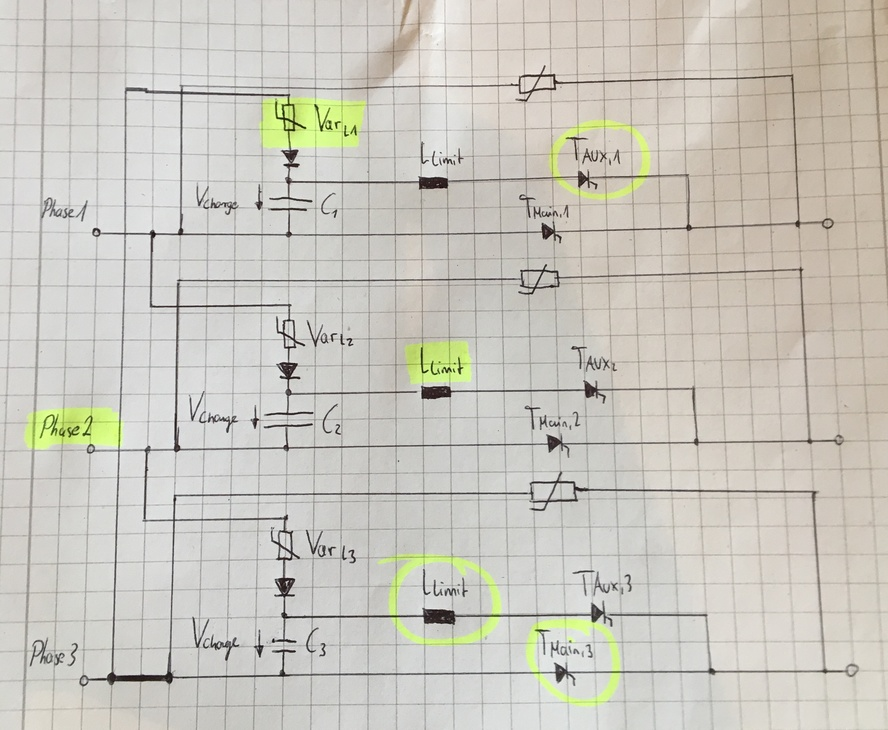capacitor.unpolarized: (261, 408, 317, 432), (266, 195, 314, 215), (268, 636, 300, 657)
crossover: (172, 300, 183, 312), (114, 445, 124, 455), (121, 230, 131, 239), (170, 516, 180, 524), (179, 90, 187, 96)
diode: (275, 361, 303, 381), (272, 575, 297, 597), (280, 148, 302, 168)
inductor: (421, 606, 457, 627), (415, 384, 453, 402), (417, 175, 450, 191)
junction: (104, 670, 119, 687), (162, 670, 177, 686), (277, 668, 289, 680), (175, 227, 187, 238), (171, 443, 183, 454), (692, 436, 702, 449), (684, 222, 695, 233), (682, 170, 693, 181), (148, 228, 158, 240), (143, 443, 153, 455), (805, 436, 816, 446), (808, 488, 819, 498), (279, 611, 290, 621), (122, 85, 133, 95), (280, 512, 290, 523), (281, 443, 292, 453), (284, 175, 294, 186), (283, 230, 295, 239), (794, 218, 803, 230), (706, 667, 718, 676), (821, 666, 831, 676), (284, 387, 294, 397), (174, 277, 185, 286), (148, 301, 157, 312), (689, 383, 698, 393), (701, 611, 711, 620), (171, 491, 180, 500), (788, 72, 798, 80), (140, 516, 149, 524), (797, 266, 805, 274), (178, 83, 187, 89), (285, 302, 293, 308), (285, 92, 292, 98)
terminal: (843, 661, 861, 679), (77, 673, 92, 688), (819, 216, 835, 230), (832, 433, 846, 447), (90, 227, 103, 239), (85, 442, 96, 456)
text: (190, 614, 240, 662), (187, 389, 240, 434), (533, 627, 595, 660), (304, 528, 358, 565), (570, 568, 634, 598), (565, 135, 623, 168), (28, 635, 79, 669), (312, 102, 359, 138), (38, 412, 95, 441), (523, 403, 582, 431), (421, 567, 469, 600), (419, 345, 465, 377), (570, 344, 619, 374), (195, 183, 239, 216), (306, 319, 355, 348), (518, 193, 570, 220), (39, 196, 89, 223), (419, 139, 464, 168), (320, 402, 344, 437), (305, 625, 328, 658), (319, 191, 342, 219)
thyristor: (590, 599, 614, 624), (553, 661, 578, 684), (545, 433, 571, 454), (582, 379, 607, 399), (577, 169, 599, 191), (541, 220, 563, 241)
varistor: (528, 471, 580, 512), (514, 64, 558, 103), (517, 262, 561, 296), (273, 98, 308, 132), (269, 527, 301, 562), (275, 315, 306, 350)
